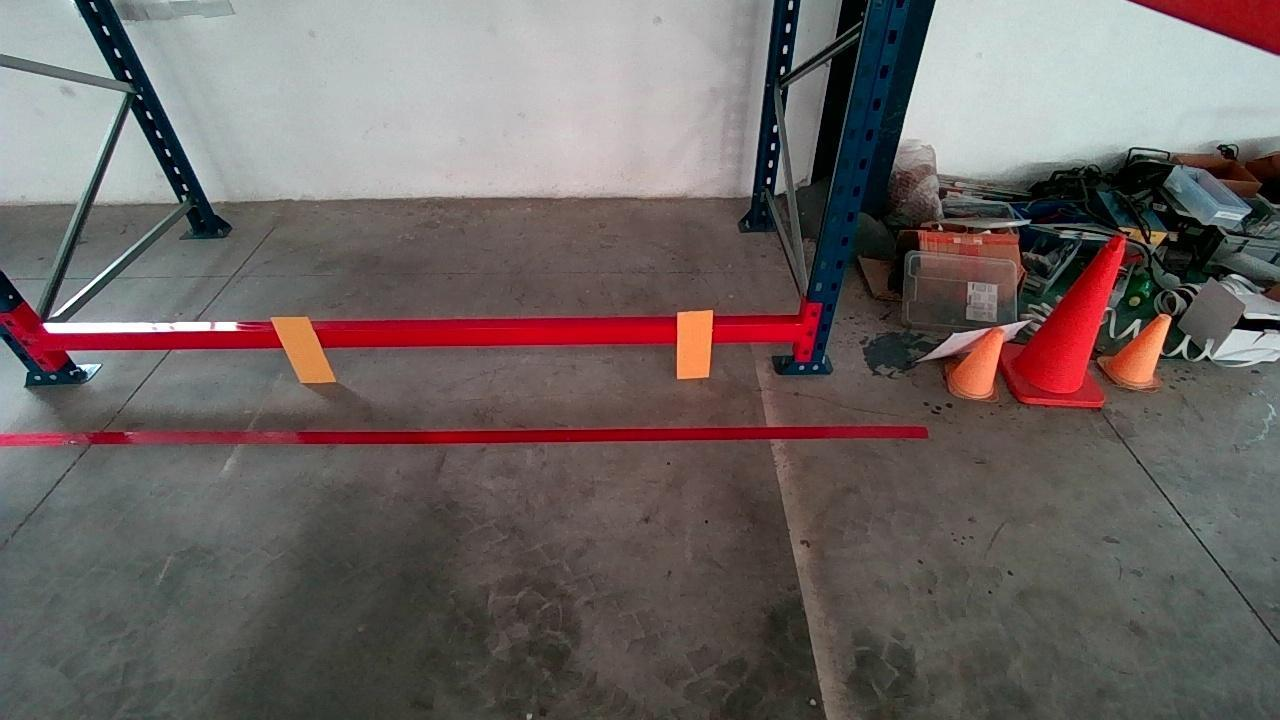h_rack: (37, 317, 802, 356)
orange_strip: (272, 316, 334, 382), (676, 309, 713, 377)
red_line: (0, 424, 929, 444)
